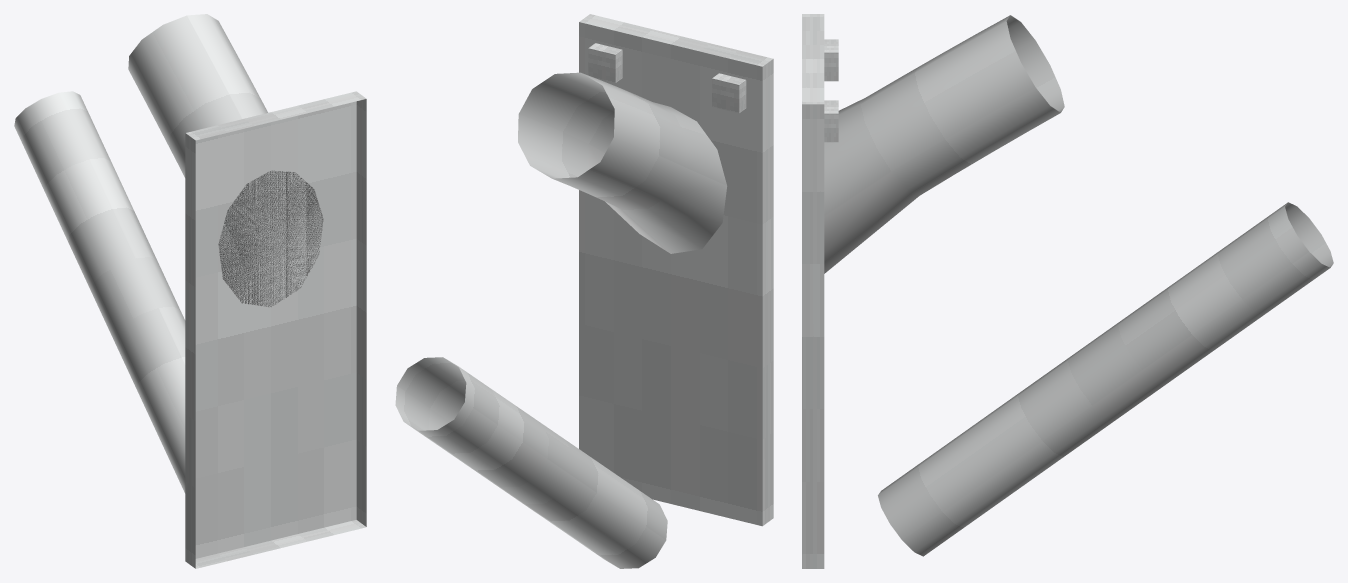
Rendered from luminairearm_truss10ftdouble_c0_wall.obj.
The picture shows the model from 3 angles, left to right: view 1: azimuth 30°, elevation 25°; view 2: azimuth 150°, elevation 25°; view 3: azimuth 270°, elevation 25°; orthographic projection. The views are drawn at different scales.
Visible parts, largest first — view 1: luminairearm_truss10ftdouble_c0_wall; view 2: luminairearm_truss10ftdouble_c0_wall; view 3: luminairearm_truss10ftdouble_c0_wall.
Part boxes in pixels (x1,y1,x2,y2): luminairearm_truss10ftdouble_c0_wall: (14, 14, 366, 568); luminairearm_truss10ftdouble_c0_wall: (395, 14, 773, 568); luminairearm_truss10ftdouble_c0_wall: (802, 14, 1333, 568).
Bounding box in the file's own units: 0.4221 × 1.15 × 1.05.
